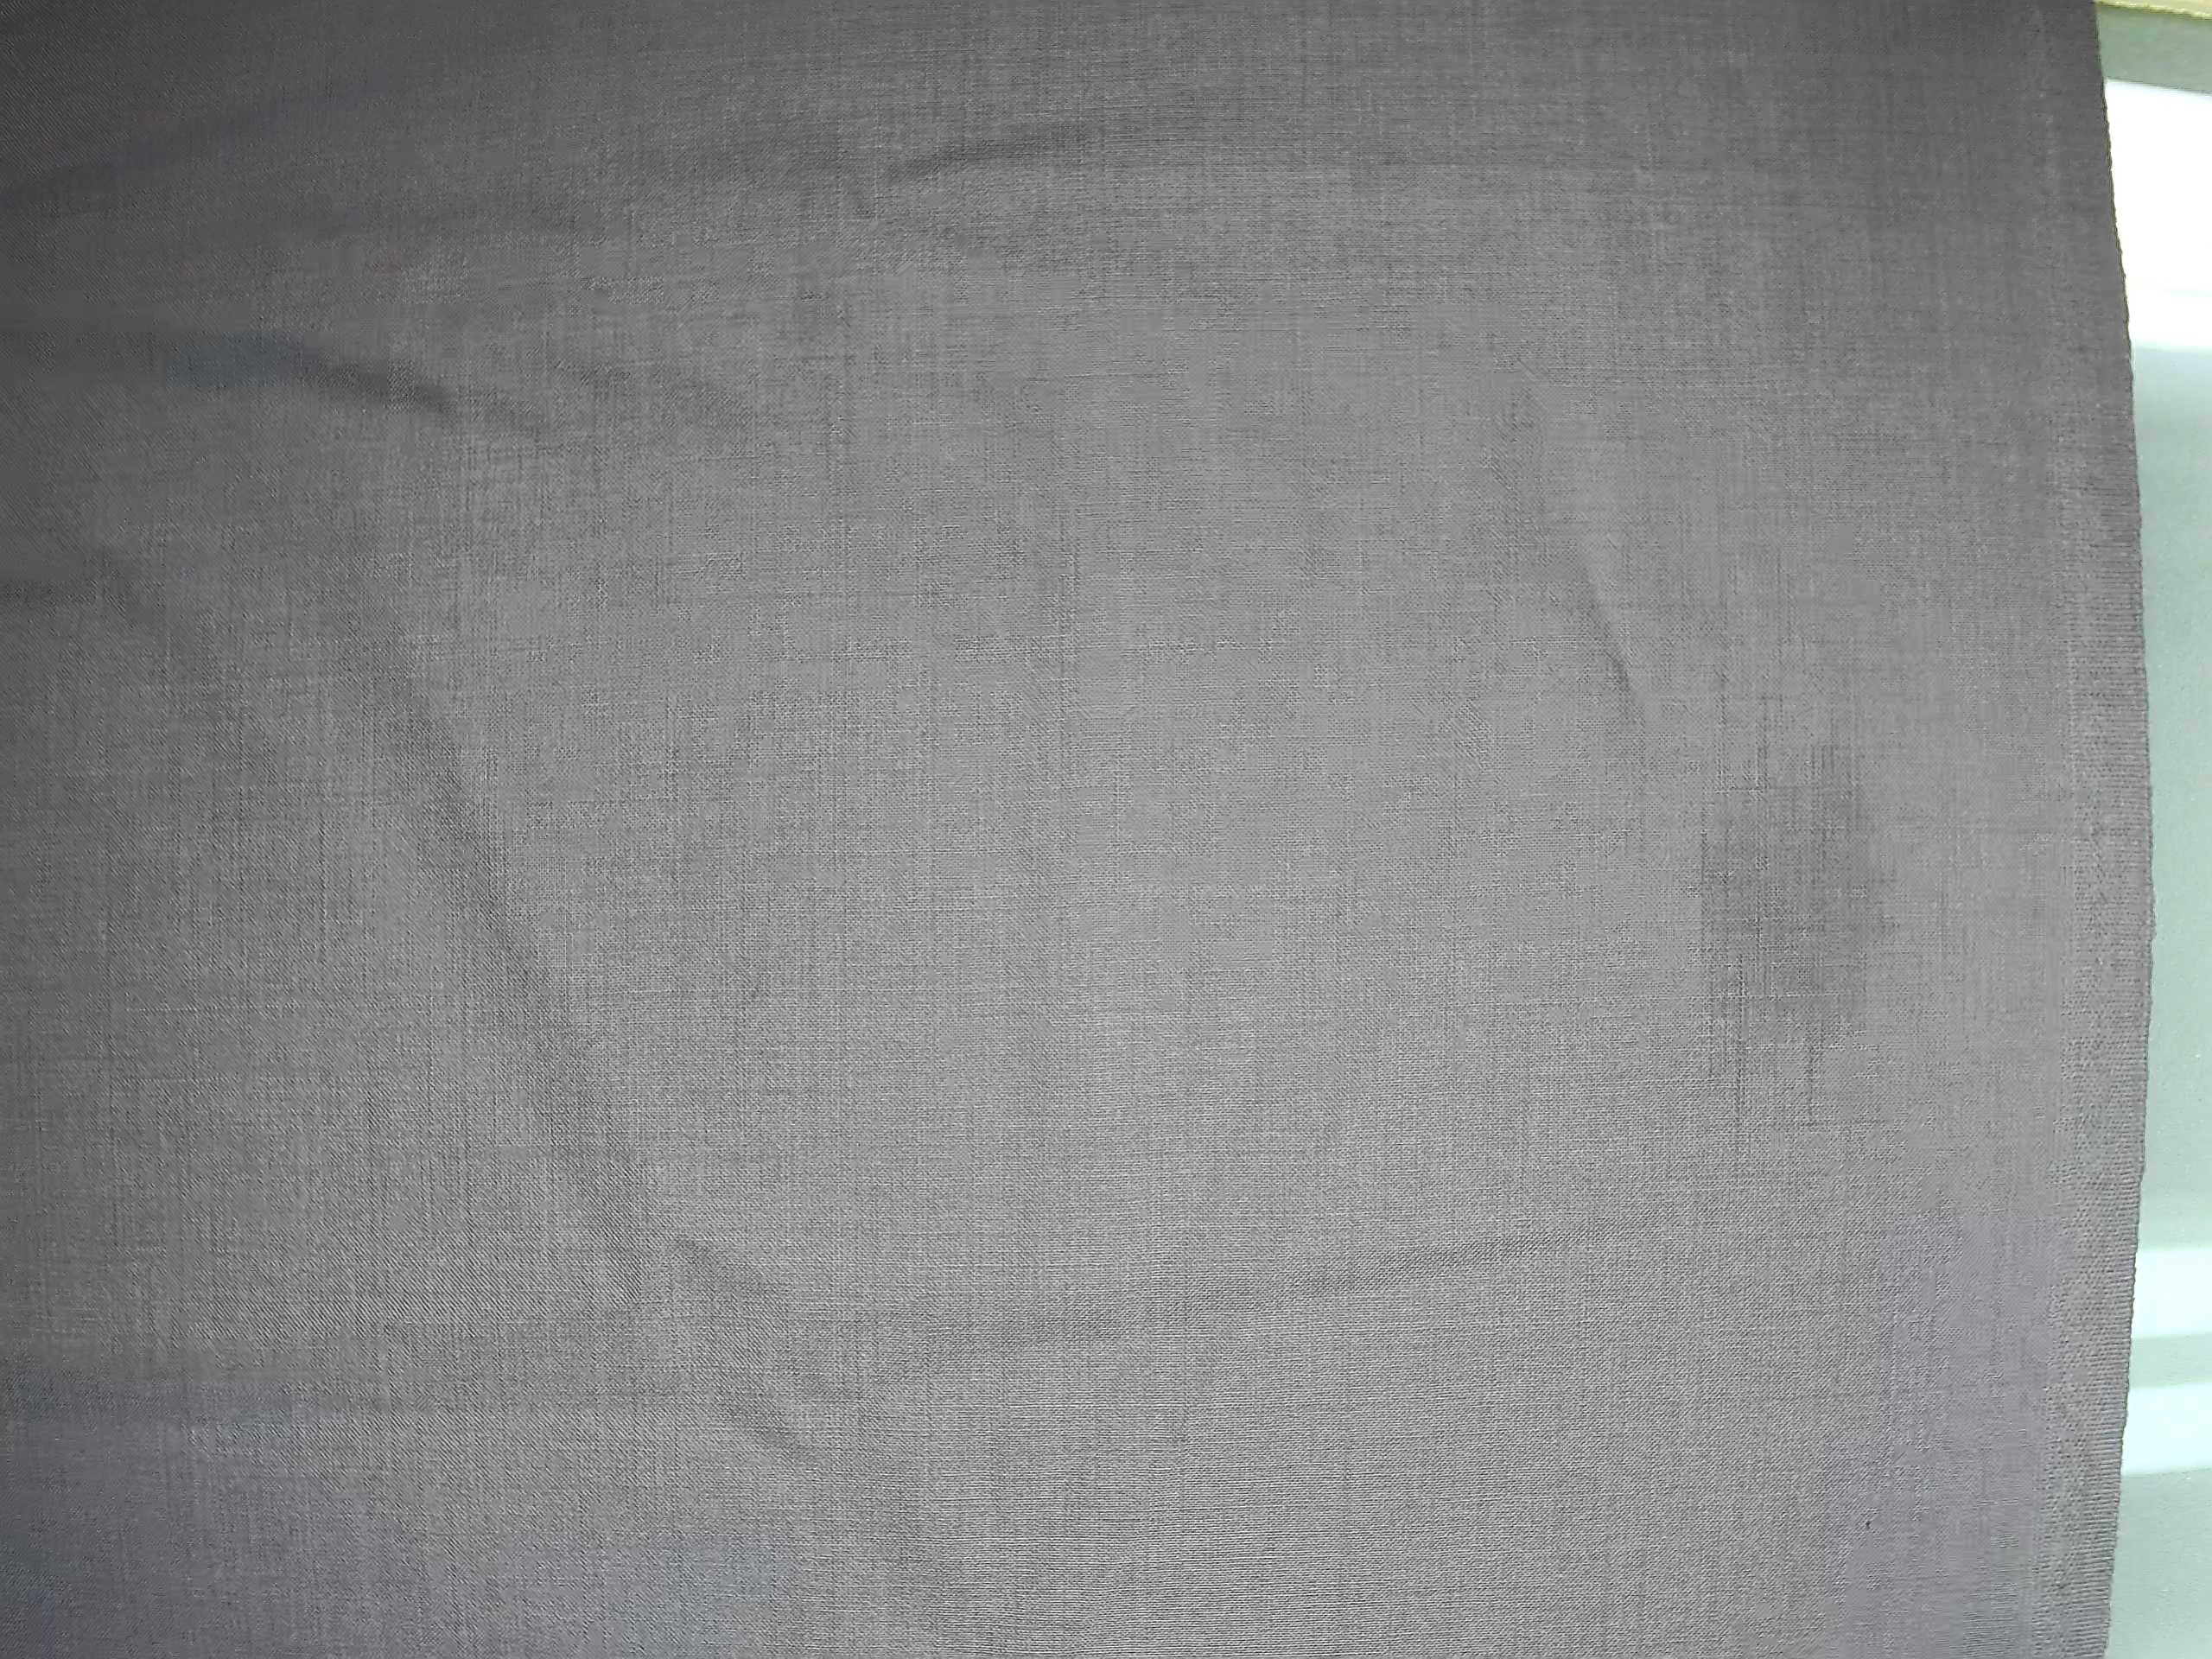stains: (1659, 719, 1924, 1128)
